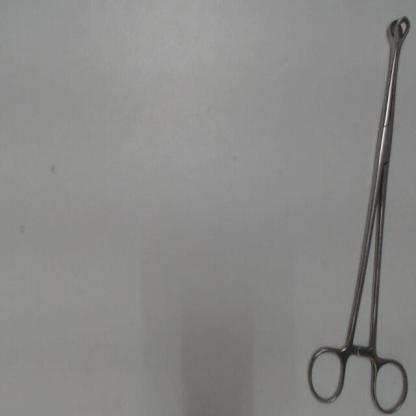8 Babcock Tissue Forceps: (304, 6, 414, 414)
